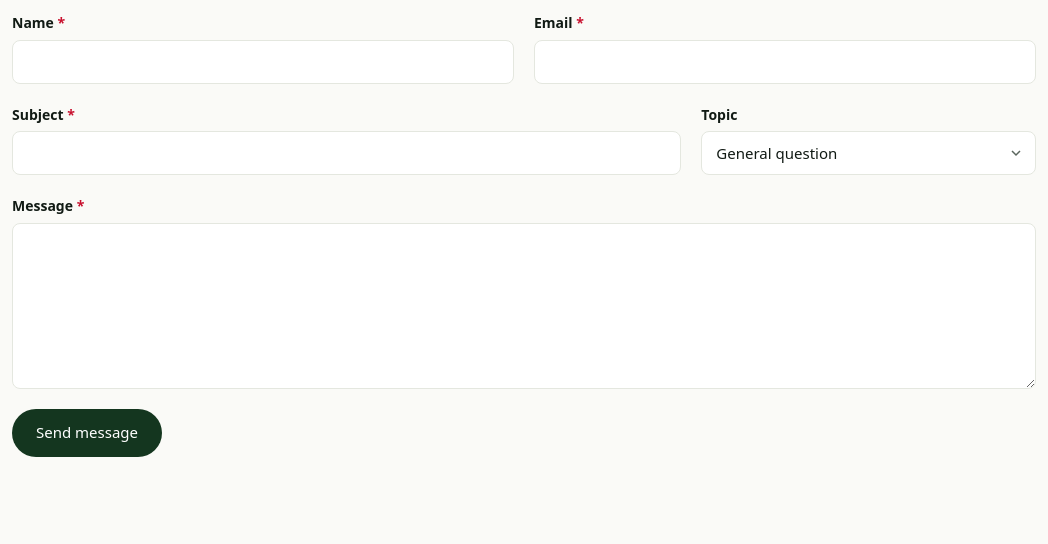
it: ContactForm › validates email and shows server errors
In the field labelled "Name *": (263, 62) [12,40,514,84], type "Ana"
In the field labelled "Email *": (785, 62) [534,40,1036,84], type "ana@"
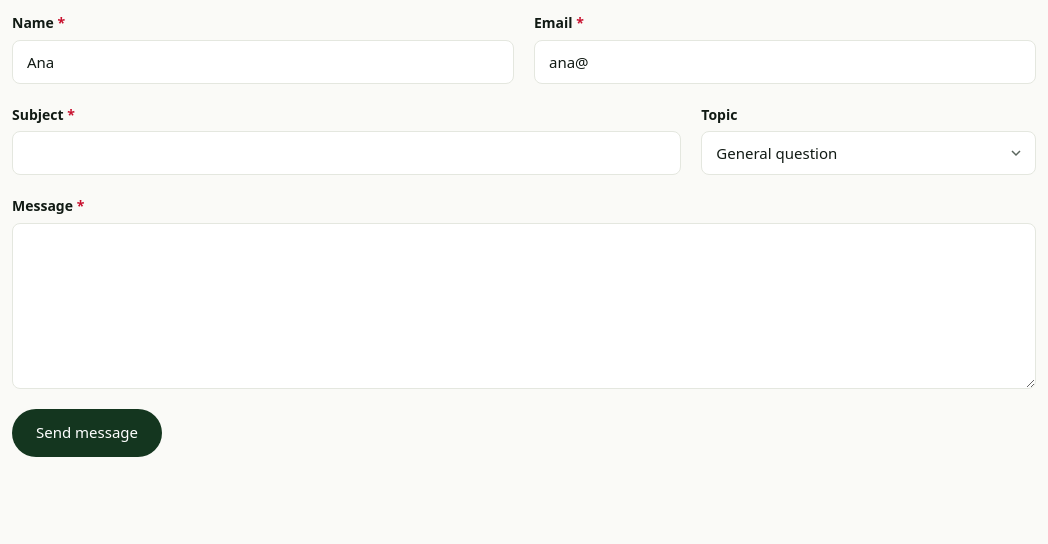
In the field labelled "Subject *": (347, 153) [12,131,681,175], type "Hello"
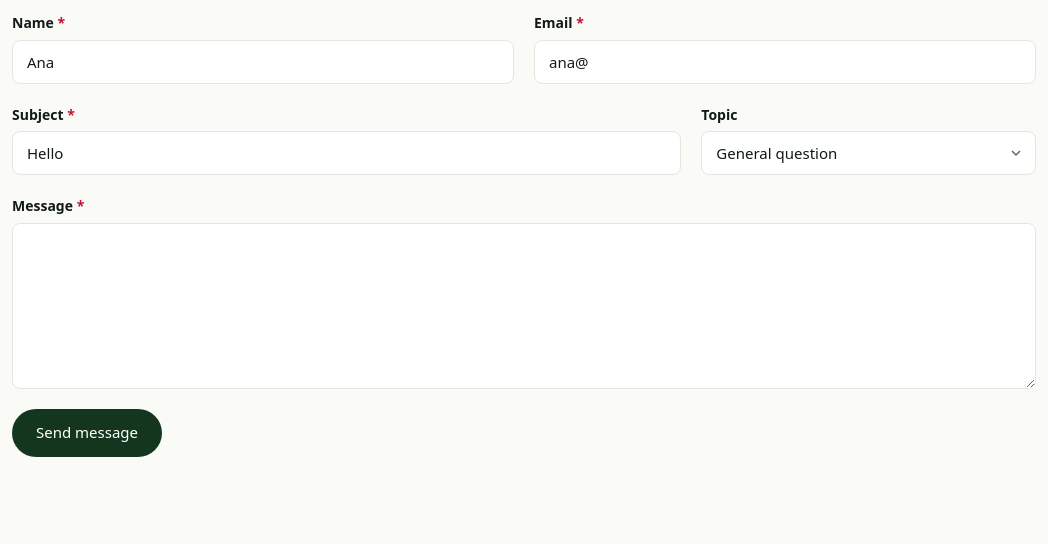
In the text box labelled "Message *": (524, 306) [12,223,1036,389], type "I would like to join the staff."
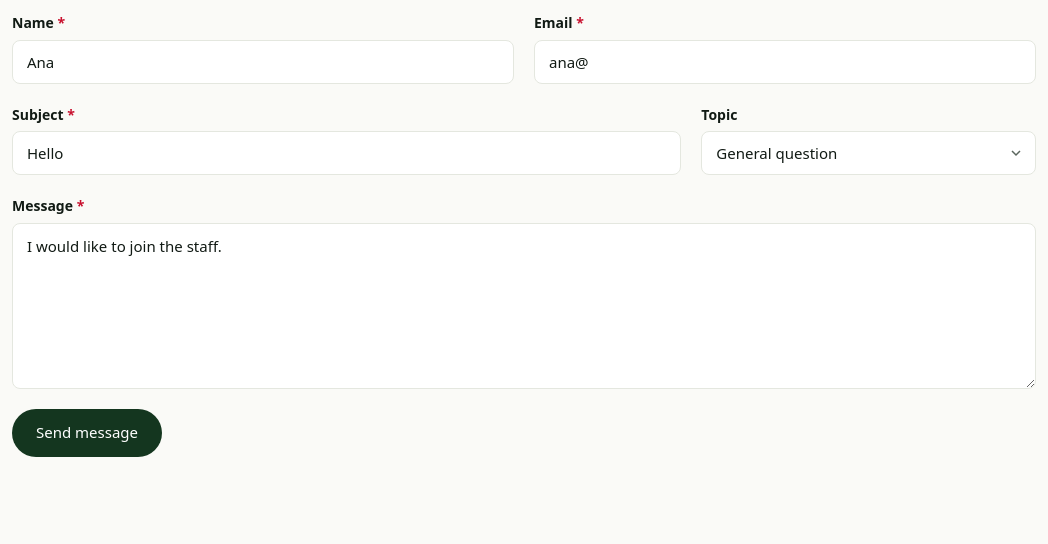
Click the button "Send message": (87, 433) [12,409,162,457]
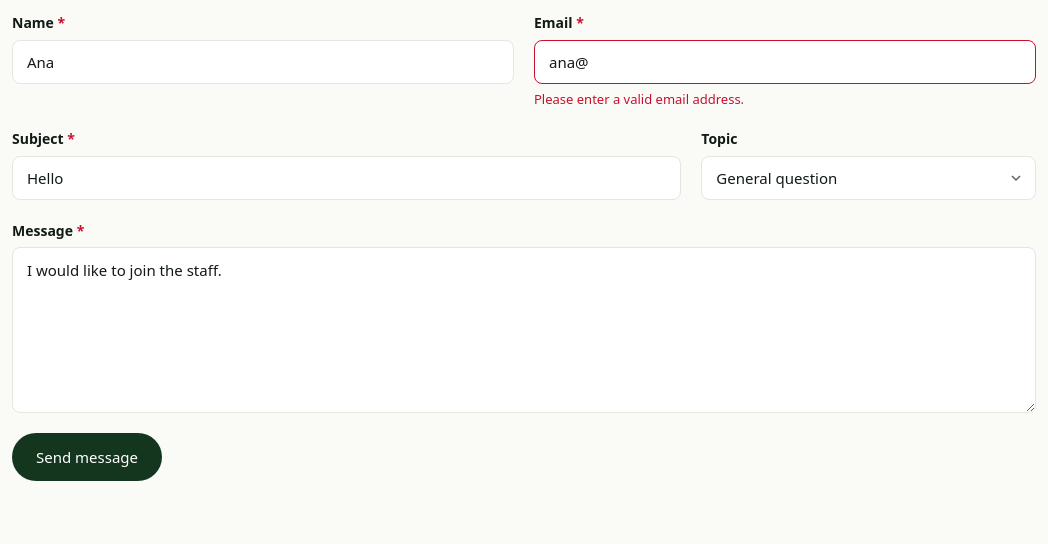
Expected: the text "Please enter a valid email address." is shown, [534,90,744,108]
Replace the text in the field labelled "Email *" with "ana@example.com": (785, 62) [534,40,1036,84]
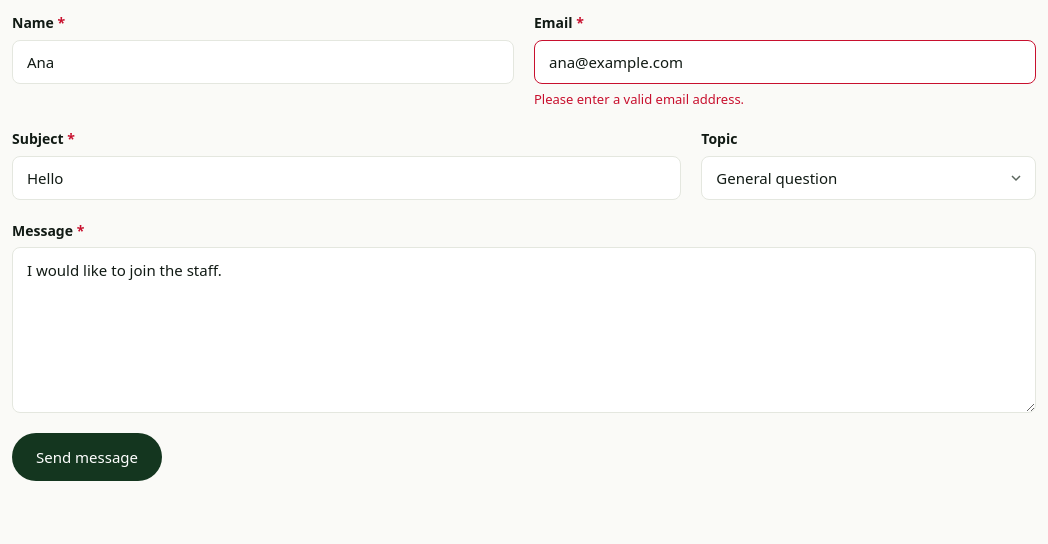
Click the button "Send message": (87, 457) [12,433,162,481]
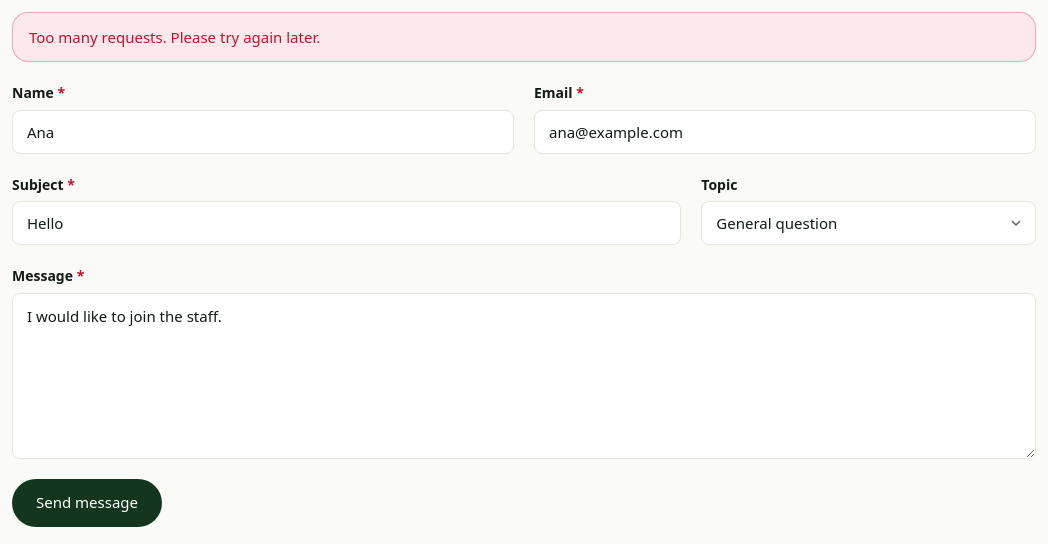
Expected: the message shows "Too many requests", [29,27,320,47]
